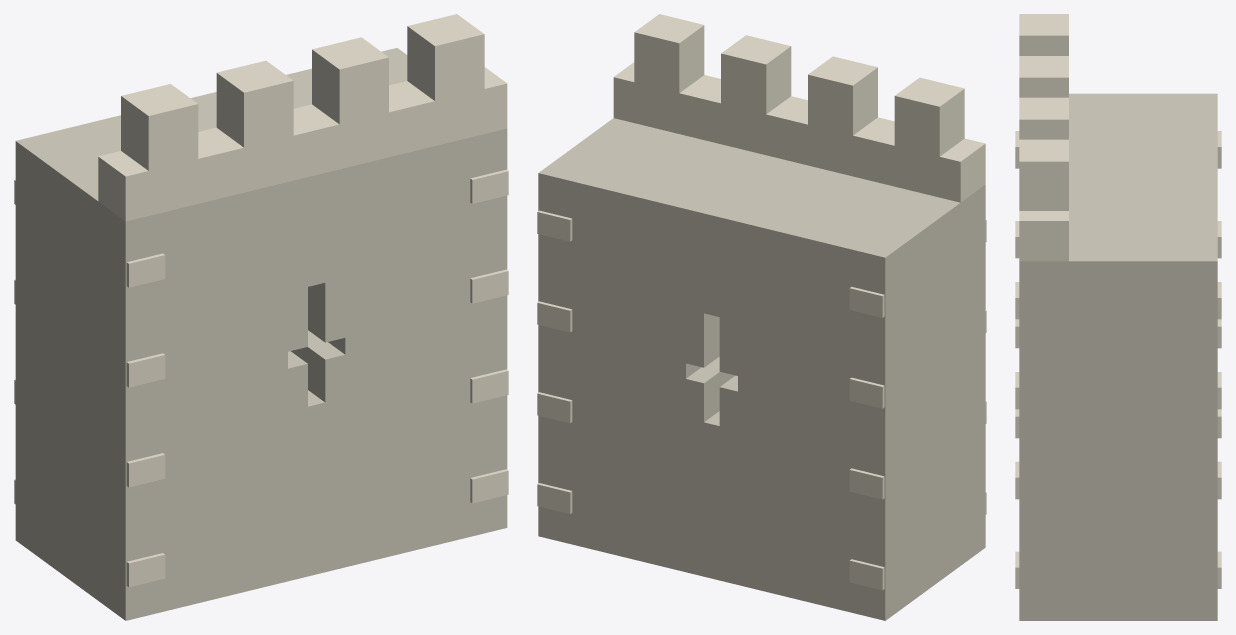
File: curtain-cross-loop.glb
3 views of the same model, side by side, from view 1: azimuth 30°, elevation 25°; view 2: azimuth 150°, elevation 25°; view 3: azimuth 270°, elevation 25° (orthographic). The views are drawn at different scales.
Parts seen in each view (by area): view 1: curtain-cross-loop; view 2: curtain-cross-loop; view 3: curtain-cross-loop.
Boxes of the visible parts, x1,y1,x2,y2 form: curtain-cross-loop: [14, 14, 508, 620]; curtain-cross-loop: [537, 14, 986, 620]; curtain-cross-loop: [1015, 14, 1221, 620].
Bounding box in the file's own units: 4 × 5 × 2.08.
